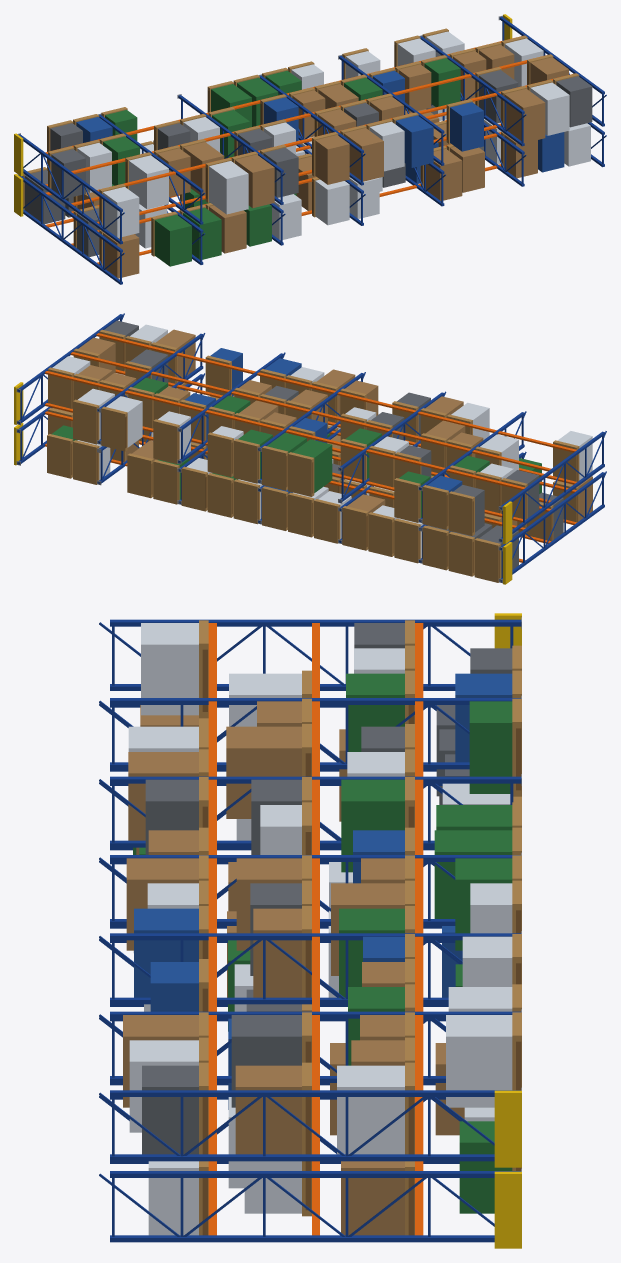
Rendered from rack_C.obj.
3 views of the same model, one above another, from view 1: azimuth 30°, elevation 25°; view 2: azimuth 150°, elevation 25°; view 3: azimuth 270°, elevation 25° (orthographic). The views are drawn at different scales.
Visible parts, largest first — view 1: cardboard, wrap, upright, crate_green, crate_grey, wood, crate_blue, beam, wood_dark, yellow; view 2: wood, upright, beam, wrap, cardboard, crate_grey, crate_green, wood_dark, crate_blue, yellow, steel; view 3: wrap, upright, cardboard, crate_green, crate_grey, wood, beam, crate_blue, yellow, wood_dark.
Boxes of the visible parts, left/top/right/bottom form: cardboard: left=77, top=44, right=568, bottom=278; wrap: left=77, top=31, right=590, bottom=248; upright: left=18, top=16, right=606, bottom=284; crate_green: left=103, top=58, right=460, bottom=266; crate_grey: left=24, top=70, right=592, bottom=257; wood: left=22, top=28, right=579, bottom=265; crate_blue: left=76, top=70, right=564, bottom=183; beam: left=45, top=35, right=573, bottom=264; wood_dark: left=47, top=44, right=554, bottom=264; yellow: left=14, top=14, right=512, bottom=216; wood: left=47, top=329, right=579, bottom=582; upright: left=17, top=313, right=606, bottom=582; beam: left=45, top=333, right=576, bottom=562; wrap: left=52, top=324, right=592, bottom=558; cardboard: left=52, top=329, right=592, bottom=529; crate_grey: left=104, top=320, right=563, bottom=577; crate_green: left=51, top=377, right=541, bottom=517; wood_dark: left=71, top=343, right=578, bottom=578; crate_blue: left=185, top=348, right=462, bottom=493; yellow: left=14, top=382, right=512, bottom=584; steel: left=16, top=388, right=502, bottom=583; wrap: left=128, top=623, right=512, bottom=1235; upright: left=99, top=619, right=521, bottom=1242; cardboard: left=123, top=701, right=464, bottom=1235; crate_green: left=133, top=673, right=512, bottom=1213; crate_grey: left=142, top=623, right=512, bottom=1154; wood: left=199, top=620, right=521, bottom=1235; beam: left=208, top=623, right=423, bottom=1235; crate_blue: left=134, top=673, right=512, bottom=1109; yellow: left=494, top=613, right=521, bottom=1248; wood_dark: left=202, top=649, right=521, bottom=1235.
Size of the model in its own units: 16.52 by 2.5 by 6.16.
